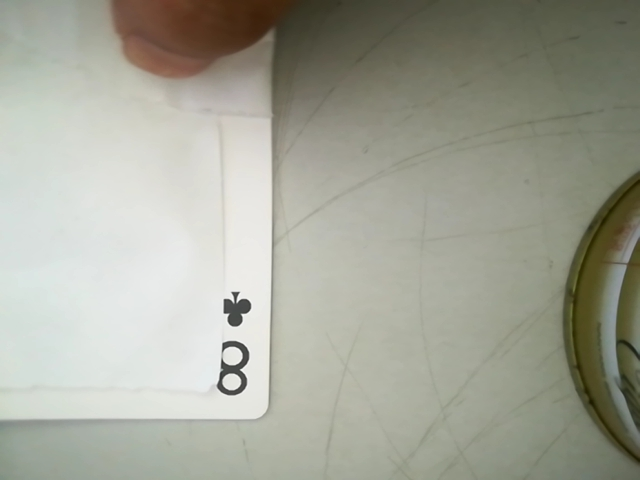mh 8: (204, 281, 270, 410)
